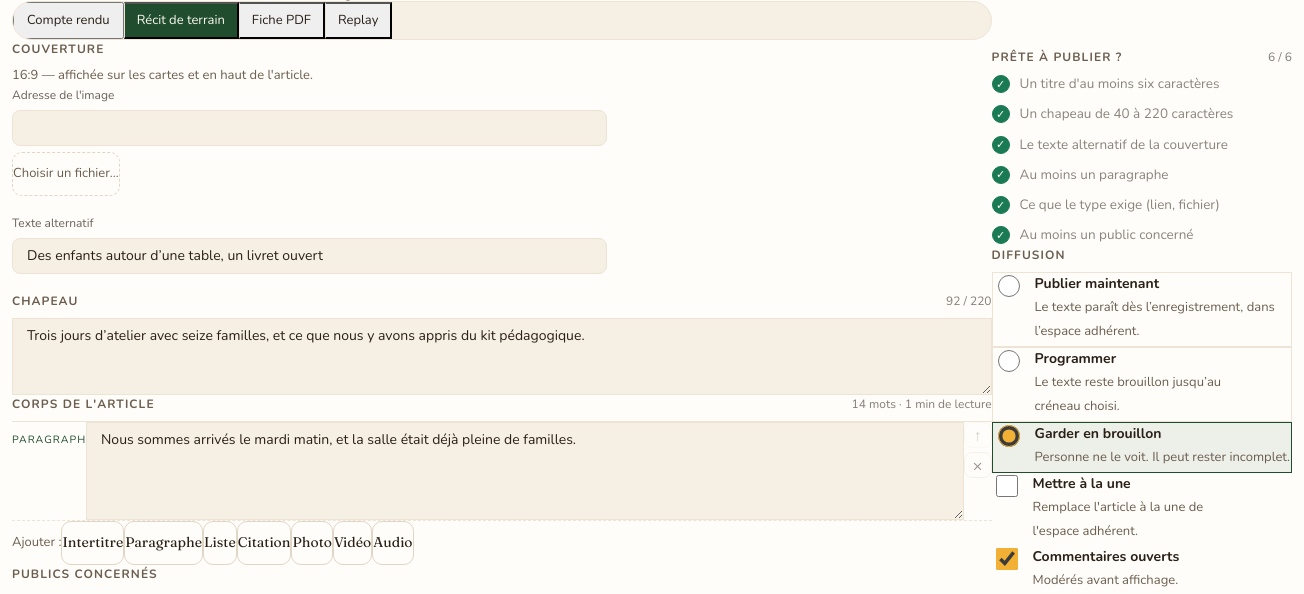
Scenario: la vidéo et le son dans le corps — migration 0108 › les AUTRES types en prennent autant qu’ils veulent
Click the button "Vidéo" at (353, 543), box [333, 521, 372, 565]
(page scrolled)
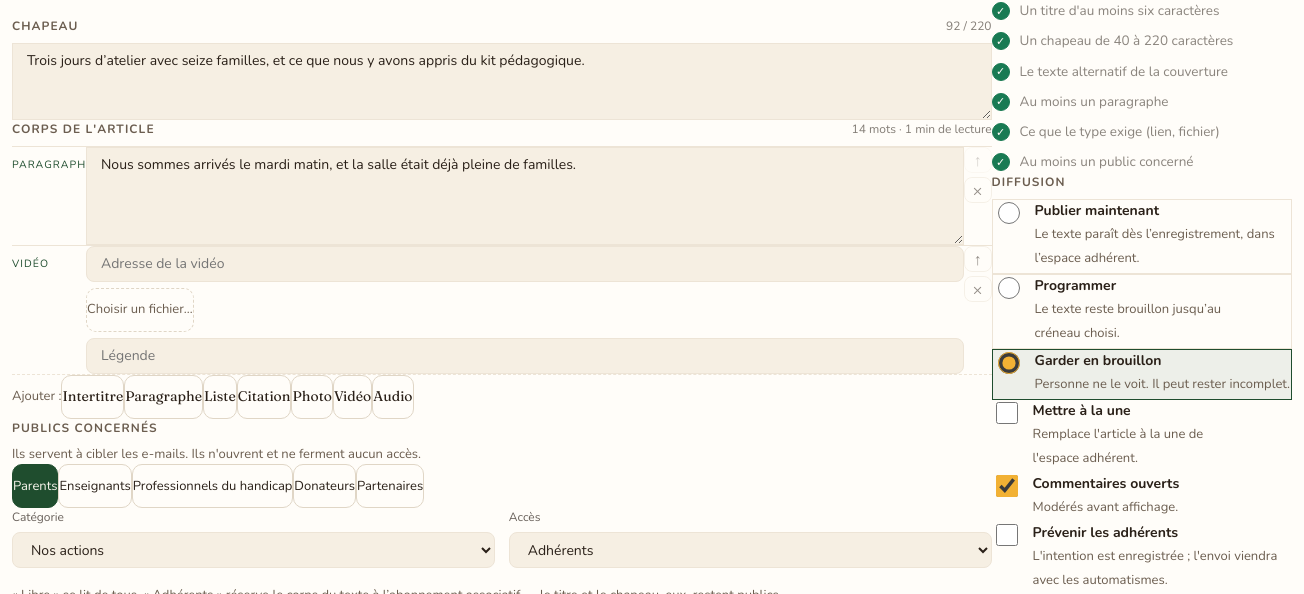
Click the button "Vidéo" at (353, 397), box [333, 375, 372, 419]
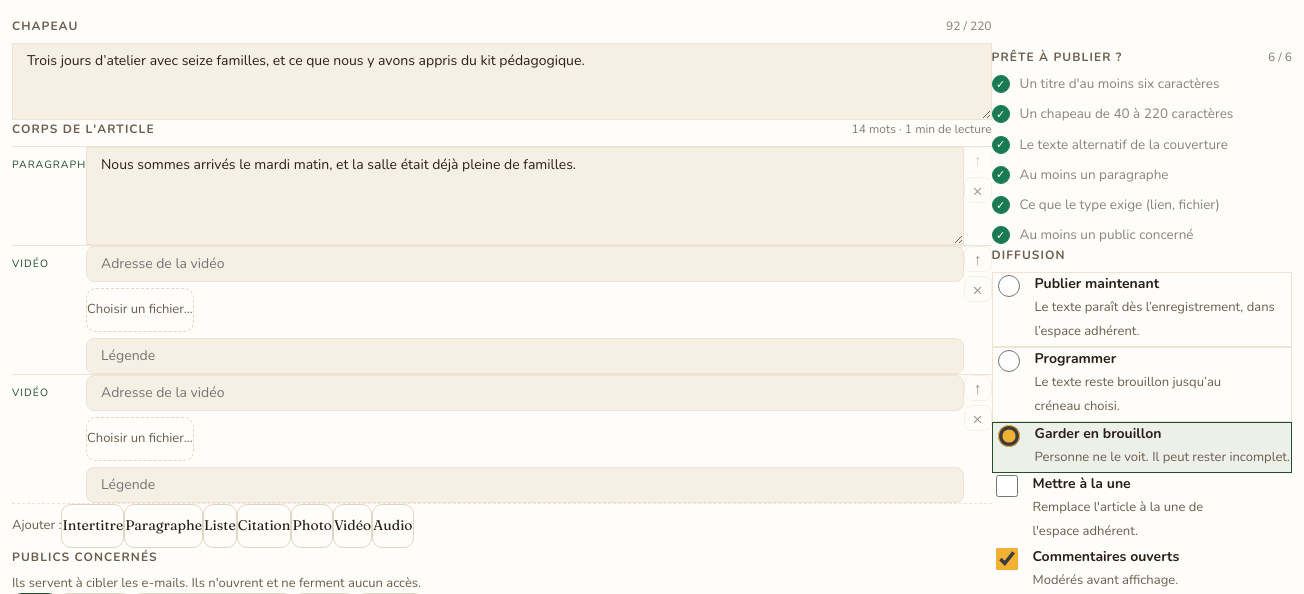
Expected: the number of fields labelled "vidéo" is 2, [86, 246, 964, 282]; [86, 375, 964, 411]
